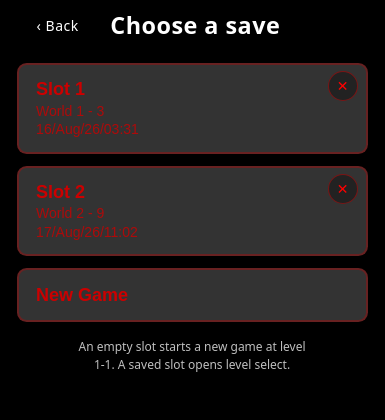
Test: the save-slot picker › deletes nothing on cancel
The width and height of the screenshot is (385, 420).
Click the button named "Delete slot 1" at (343, 86), box 328,71 -> 358,101
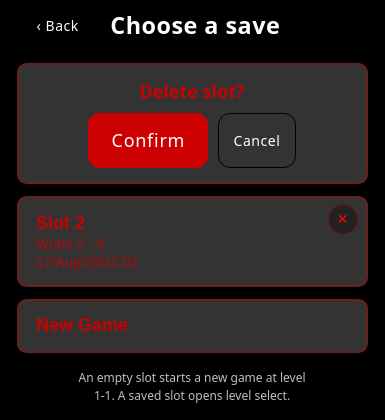
Click the button "Cancel" at (257, 140), box 218,113 -> 296,168
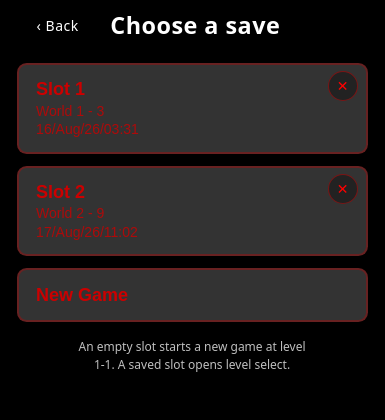
Expected: the button "Slot 1 World 1 - 3 16/Aug/26/03:31" is shown, 16,63 -> 368,154
